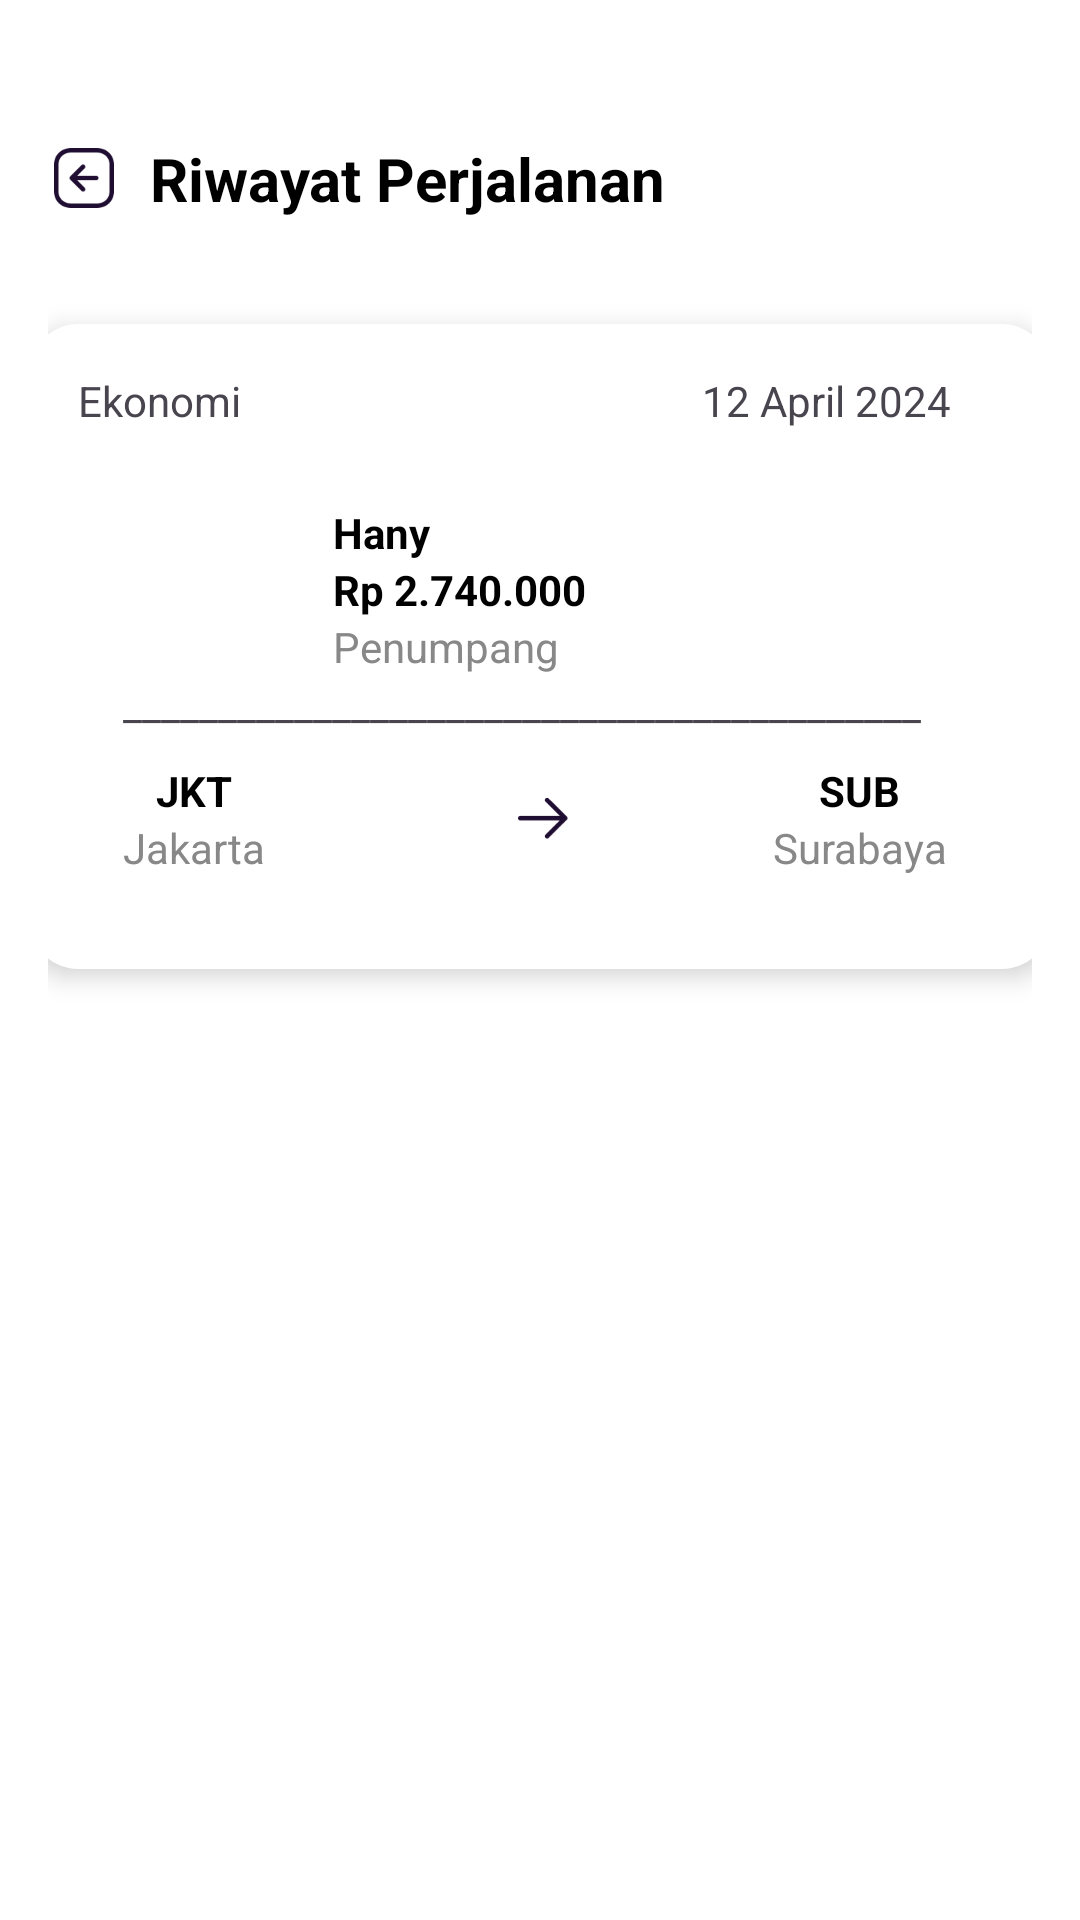

Where icons sit on this 1080px×1920px app screen, as (x1, y1, x2, y2):
iconback: (54, 148, 114, 208)
Ikon panah: (518, 798, 568, 839)
